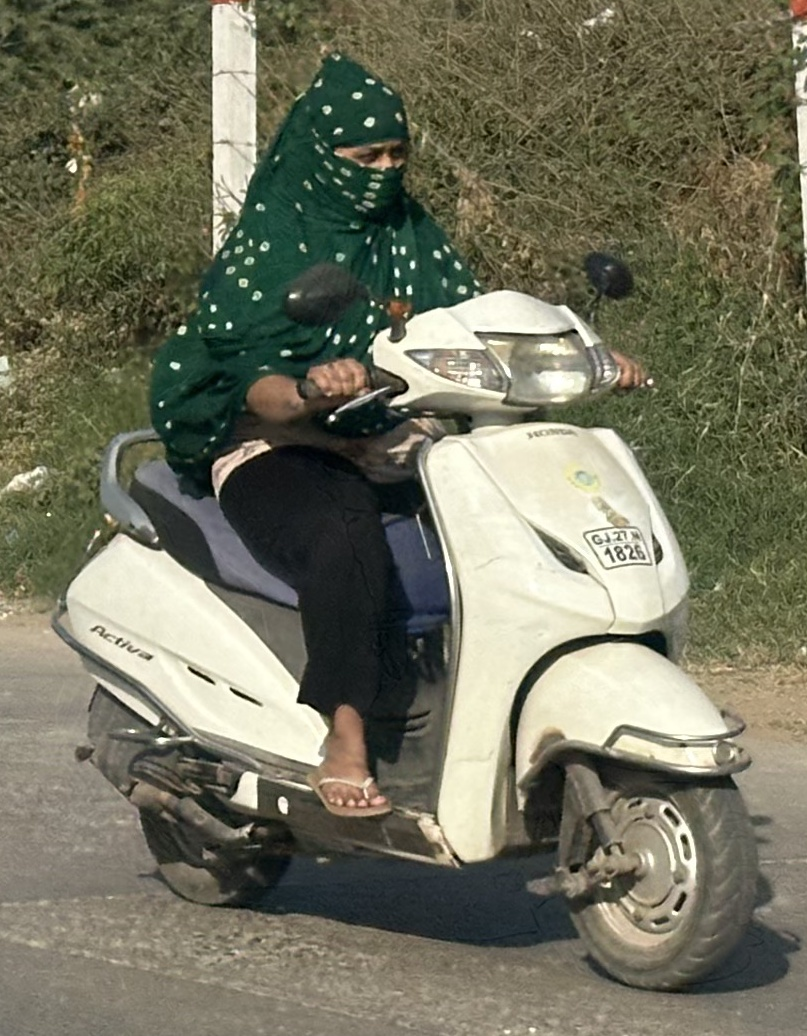BikeWithRider: (31, 46, 772, 995)
NoHelmet: (276, 47, 428, 226)
